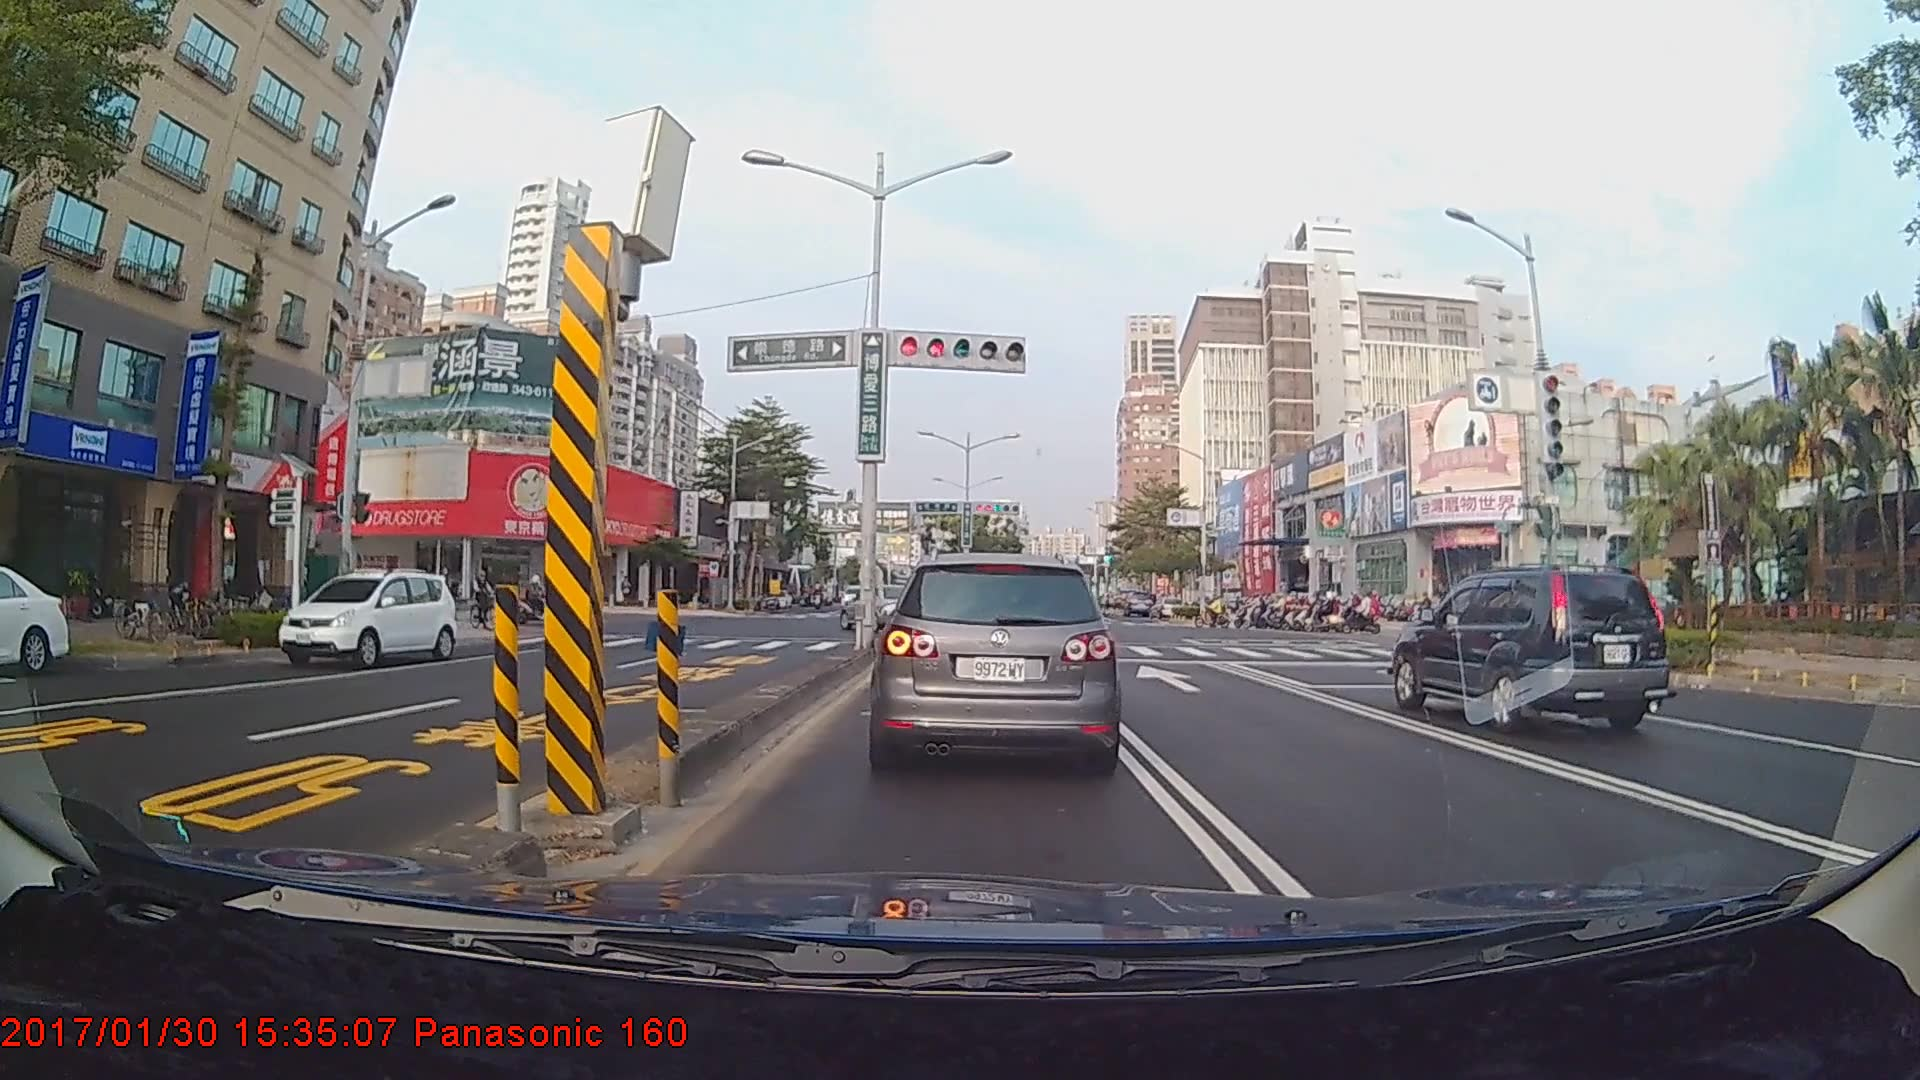pedestrian: (431, 567, 451, 632)
rider: (469, 566, 504, 630)
vehicle: (863, 544, 1124, 774), (1388, 565, 1667, 736), (276, 569, 457, 669), (0, 562, 71, 674), (840, 583, 934, 627), (1123, 591, 1154, 618)
